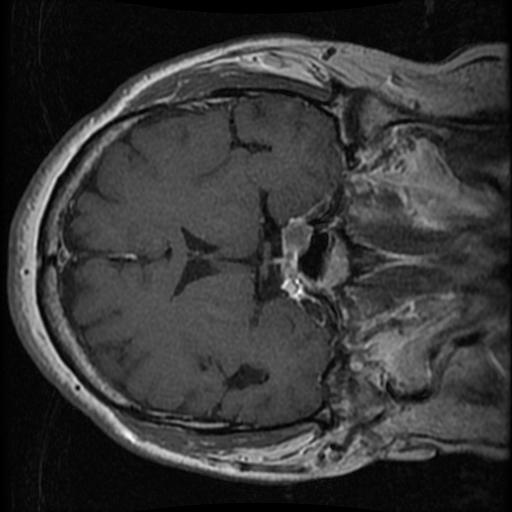pituitary tumour: (281, 219, 313, 280)
